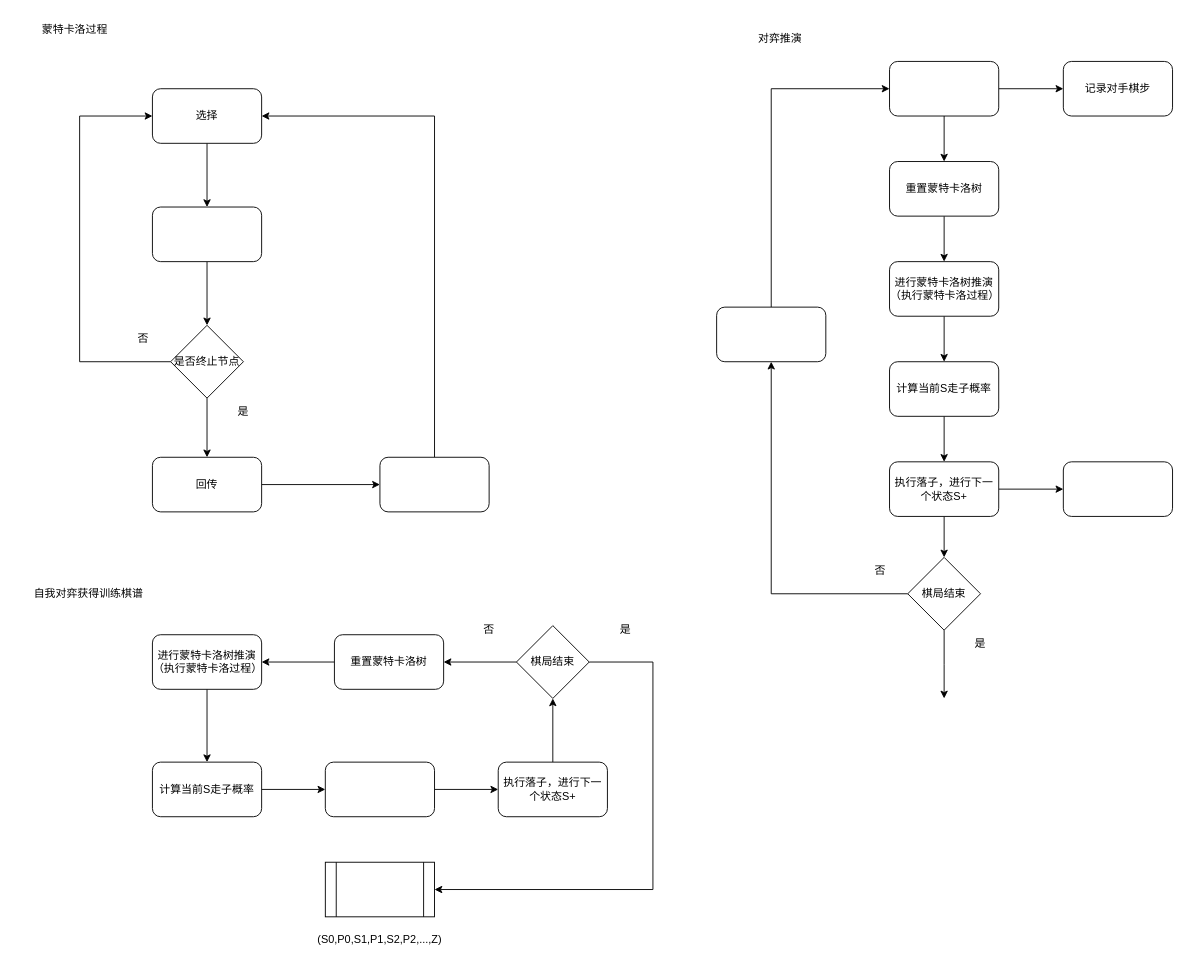
Image size: 1188x968. Some labels were removed from this diagram. Here are the shapes that lost their labels. From the top down, the centre of each, then its label:
point (944, 88): 获取状态S
point (207, 234): 拓展
point (771, 334): 等待对手下棋
point (434, 484): 回到S0
point (1117, 488): 记录我方棋步
point (379, 789): 记录最优状态S+和走子概率pi
point (379, 889): 存储棋谱
